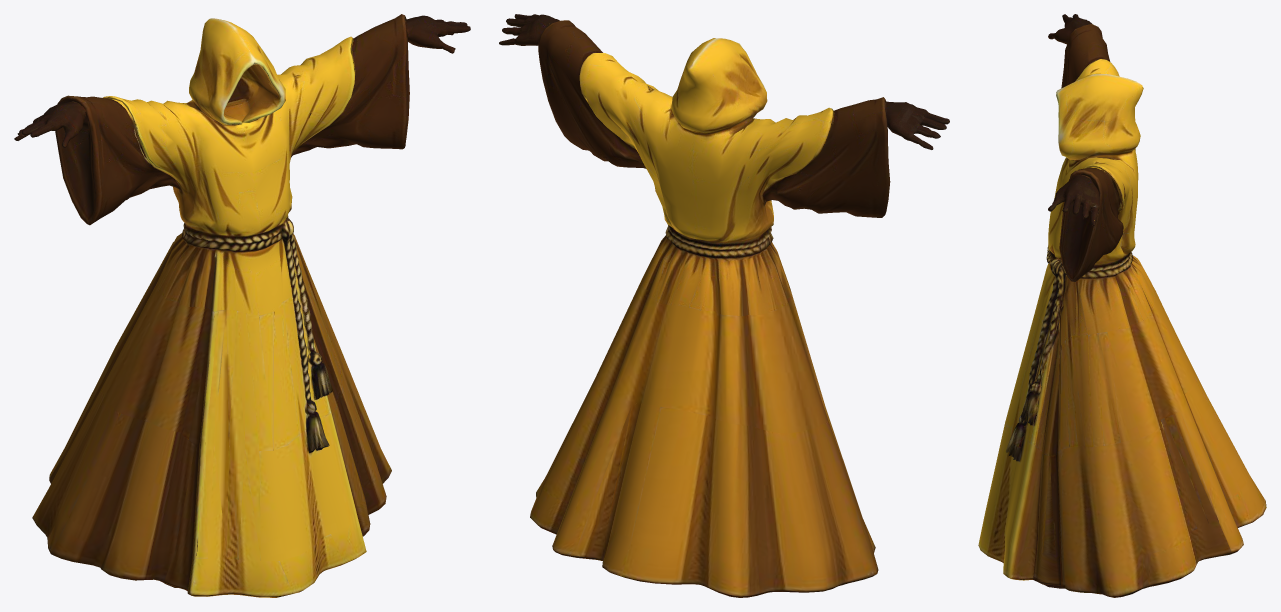
The model's file is illusionista.glb.
3 renders of one model, left to right at view 1: azimuth 30°, elevation 25°; view 2: azimuth 150°, elevation 25°; view 3: azimuth 270°, elevation 25°, orthographic. The views are drawn at different scales.
Bounding box in the file's own units: 0.8486 × 0.9517 × 0.522.
1 material, 1 textured.
